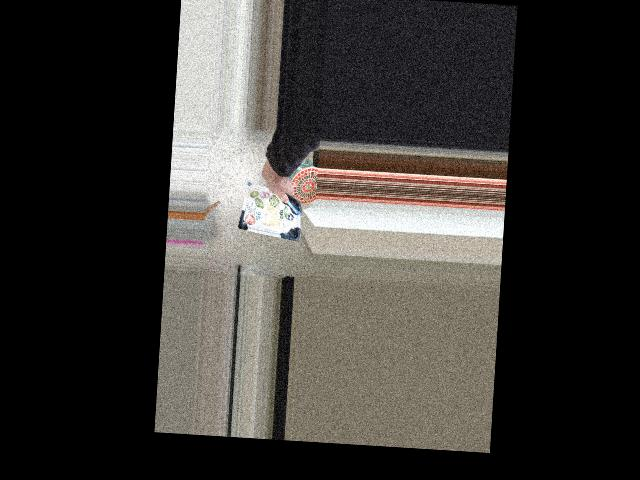cheese: (240, 172, 292, 224)
